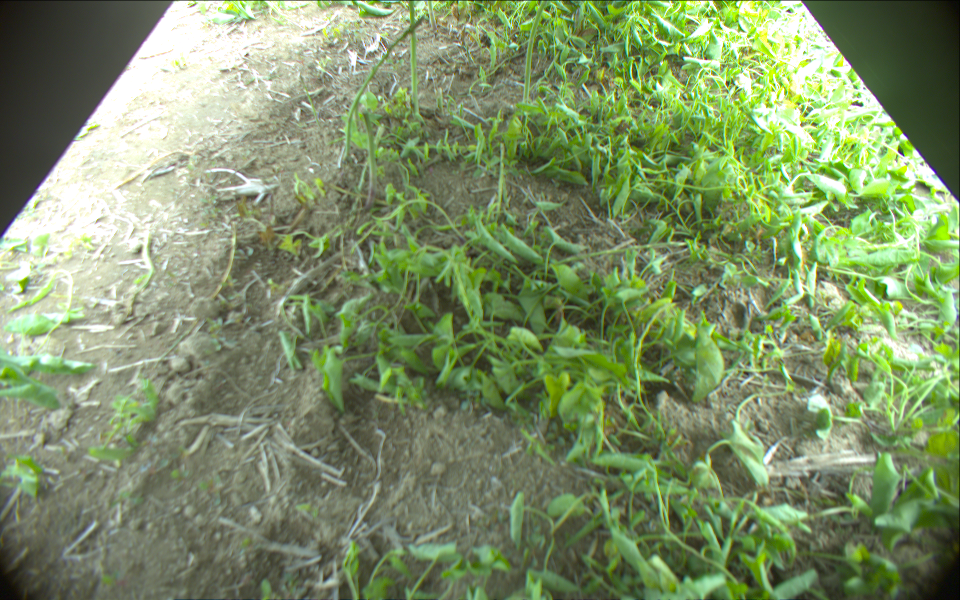aspa: (347, 14, 428, 153), (521, 1, 547, 105), (360, 106, 378, 209), (407, 1, 419, 108), (499, 143, 505, 216), (425, 1, 439, 28), (435, 89, 445, 114)
